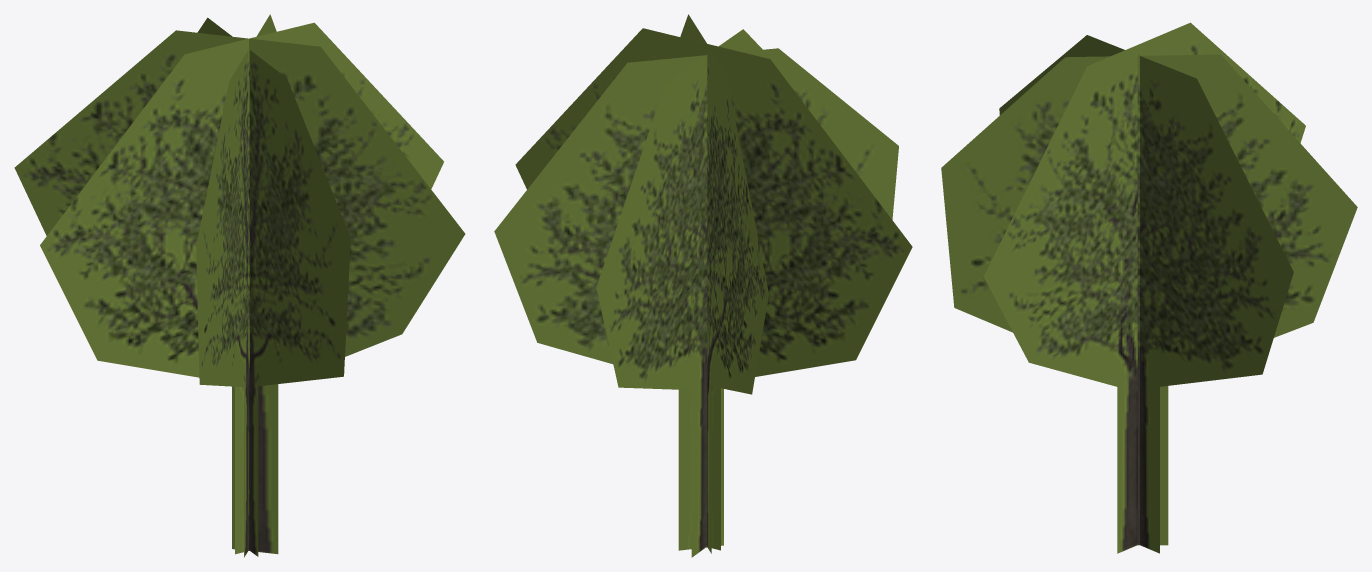
The model's file is W_StreetTree_L2.fbx.
3 views of the same model, side by side, from view 1: azimuth 30°, elevation 25°; view 2: azimuth 150°, elevation 25°; view 3: azimuth 270°, elevation 25° (orthographic). The views are drawn at different scales.
Visible parts, largest first — view 1: W_StreetTree_L2; view 2: W_StreetTree_L2; view 3: W_StreetTree_L2.
Boxes of the visible parts, left/top/right/bottom form: W_StreetTree_L2: left=14, top=14, right=465, bottom=557; W_StreetTree_L2: left=494, top=14, right=912, bottom=557; W_StreetTree_L2: left=941, top=22, right=1357, bottom=553.
Bounding box in the file's own units: 5.09 × 6.16 × 4.65.
